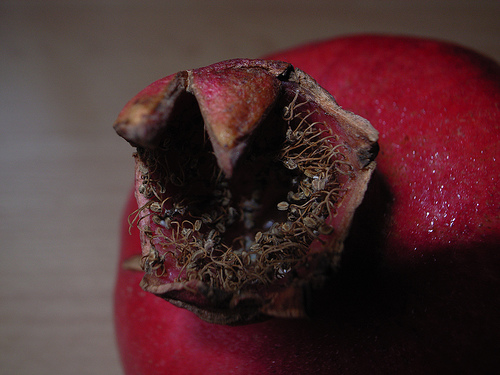pomogranate: (111, 32, 499, 374)
